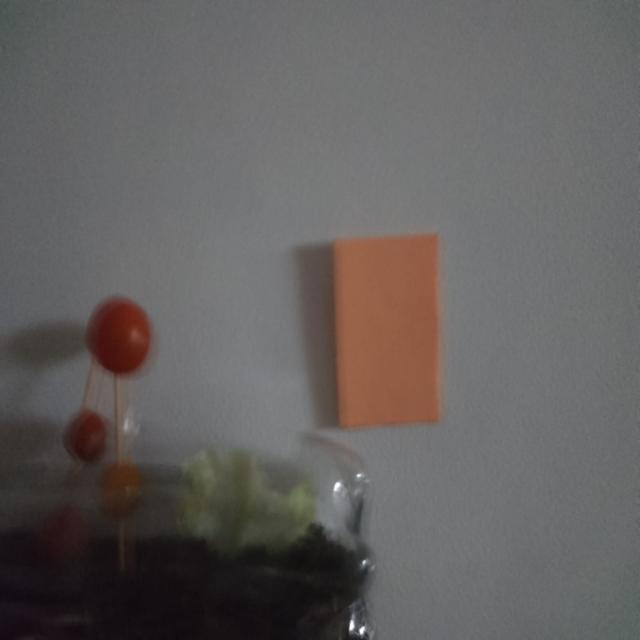card: (333, 234, 440, 428)
fruit_maturation: (102, 461, 142, 519)
fully_grown: (86, 297, 152, 375), (65, 409, 106, 462)
